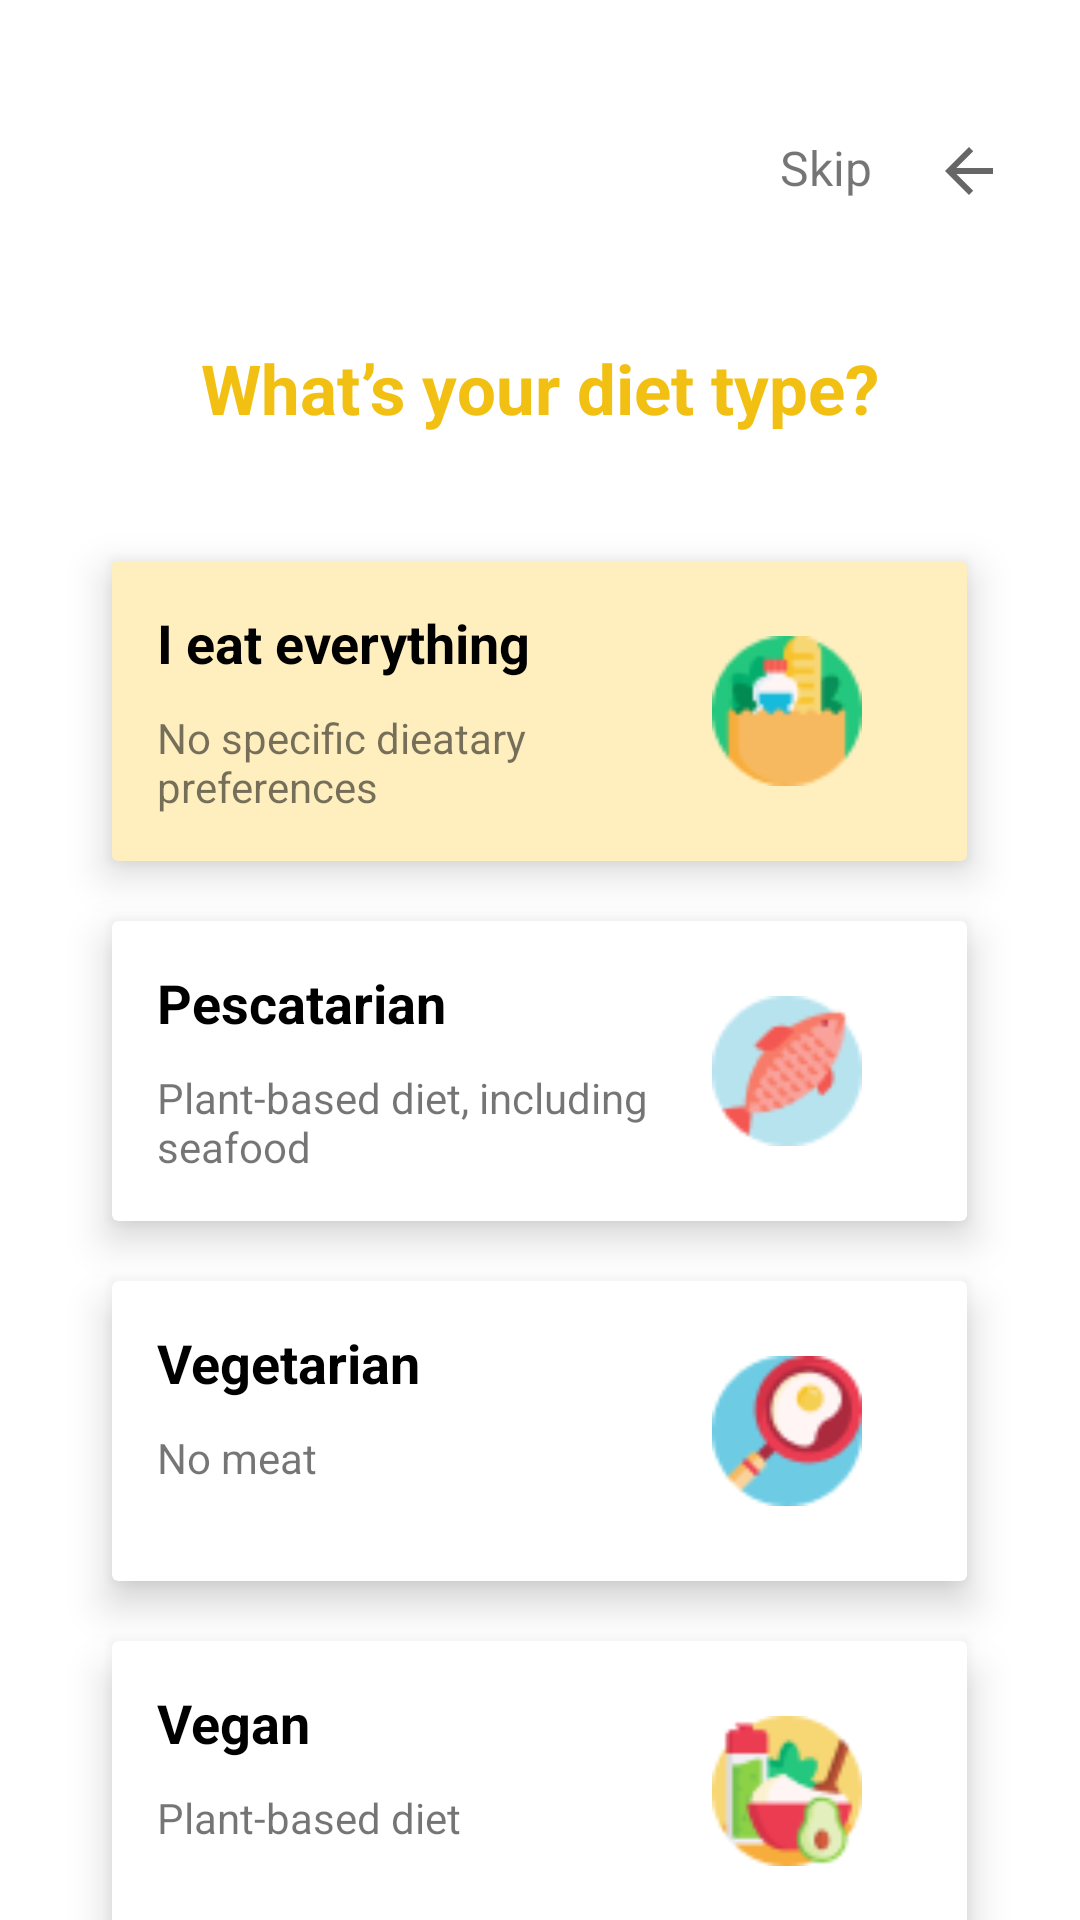

Icons on this 1080 × 1920 Android screen, each with its box as (left=x1, top=y1, right=x2, bottom=y2):
groceries: (left=712, top=636, right=862, bottom=786)
omelette: (left=712, top=1356, right=862, bottom=1506)
